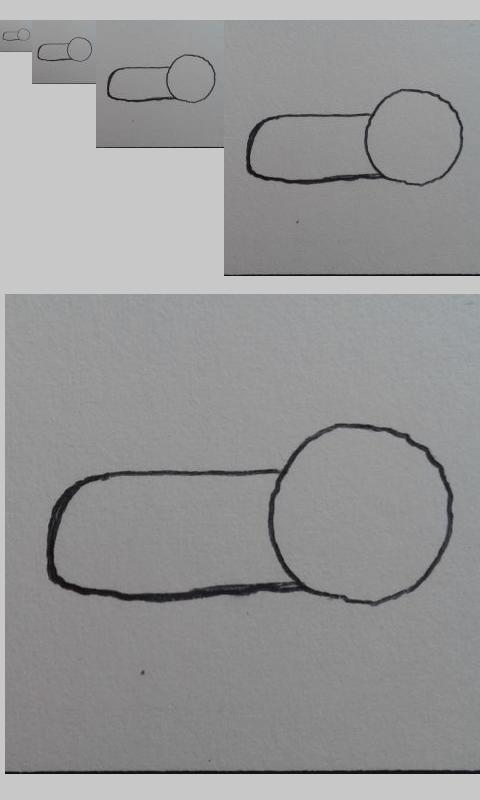switch: (45, 422, 454, 607), (245, 88, 465, 187), (106, 53, 216, 104), (37, 36, 93, 63), (2, 28, 31, 41)
